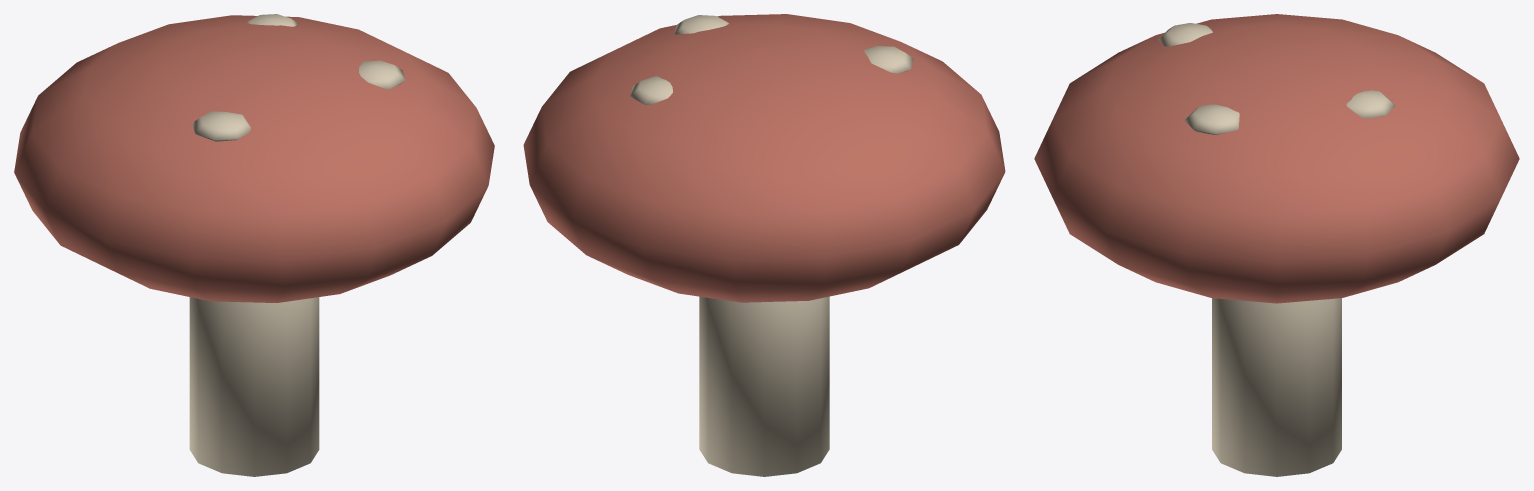
File: mushroom.glb
3 renders of one model, left to right at view 1: azimuth 30°, elevation 25°; view 2: azimuth 150°, elevation 25°; view 3: azimuth 270°, elevation 25°, orthographic.
Visible parts, largest first — view 1: body; view 2: body; view 3: body.
Boxes of the visible parts, <box> form: body: <box>14,14,494,476</box>; body: <box>523,14,1005,476</box>; body: <box>1034,14,1519,476</box>.
Size of the model in its own units: 0.56 by 0.5 by 0.56.
